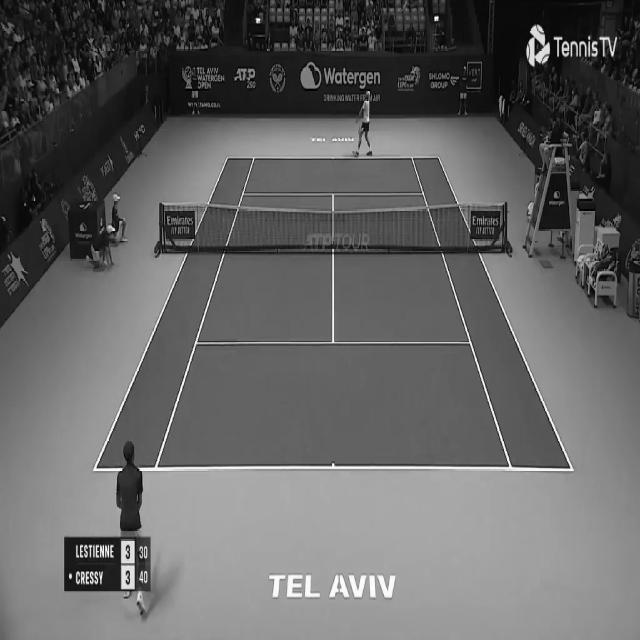tennis-court: (92, 156, 575, 471)
